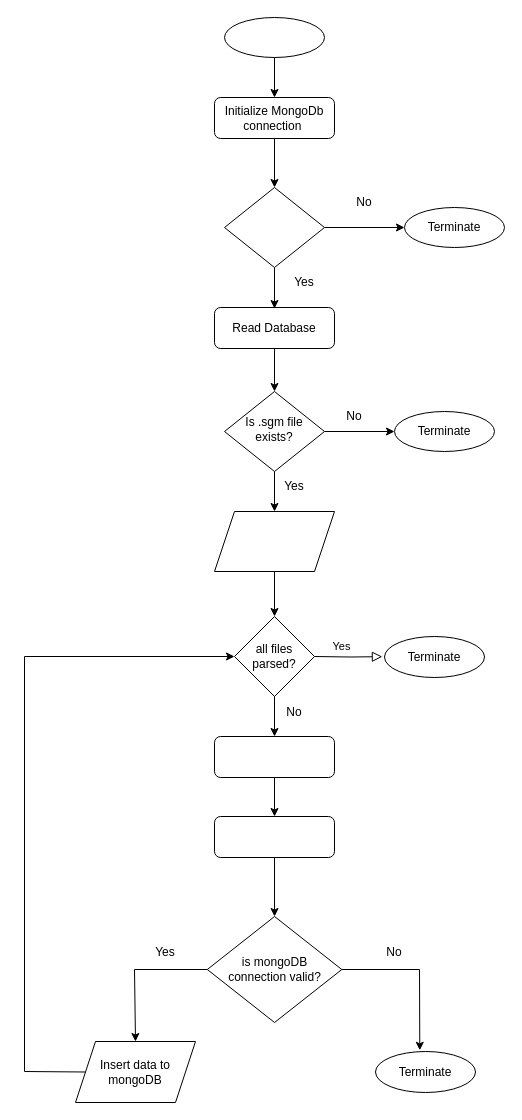
This 522x1120 diagram has some shape labels left out. Each missing label, with the centre of its shape:
"connection built?" belongs at [274,227].
"Extract Reuters tags" belongs at [274,757].
"Extract title and body tags" belongs at [274,837].
"Read files" belongs at [274,541].
"Start" belongs at [274,37].
